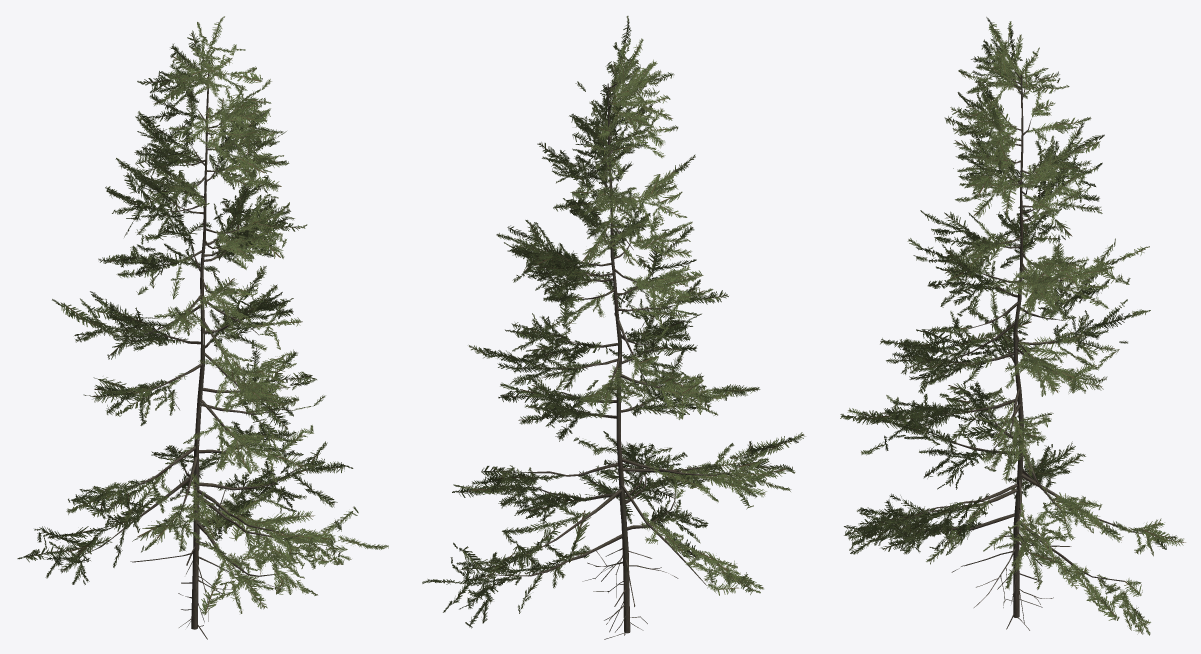
Rendered from fir-sapling-medium-b.glb.
3 views of the same model, side by side, from view 1: azimuth 30°, elevation 25°; view 2: azimuth 150°, elevation 25°; view 3: azimuth 270°, elevation 25° (orthographic). The views are drawn at different scales.
Parts seen in each view (by area): view 1: fir_sapling_medium_b; view 2: fir_sapling_medium_b; view 3: fir_sapling_medium_b.
Boxes of the visible parts, box(x1,y1,x2,y2) form: fir_sapling_medium_b: box(17, 16, 388, 639); fir_sapling_medium_b: box(422, 16, 805, 639); fir_sapling_medium_b: box(840, 17, 1185, 635).
Size of the model in its own units: 4.3 by 7.83 by 4.01.
Materials: 2 (2 with a texture image).
